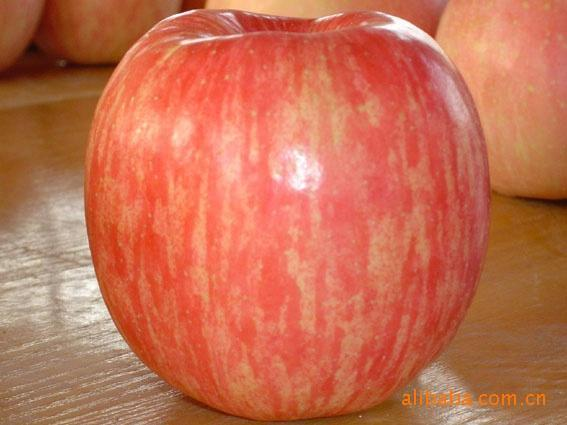apple: (85, 1, 493, 416), (425, 1, 564, 200)
